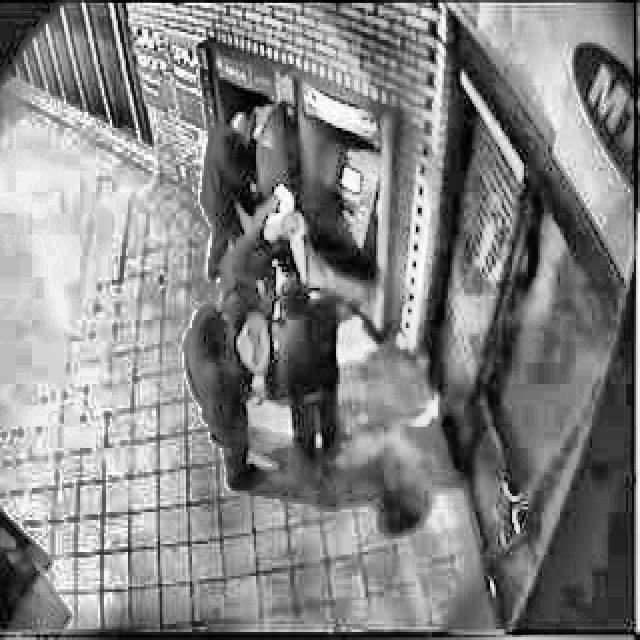burglary: (177, 92, 381, 497)
